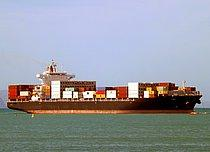Ship: (5, 79, 206, 117)
